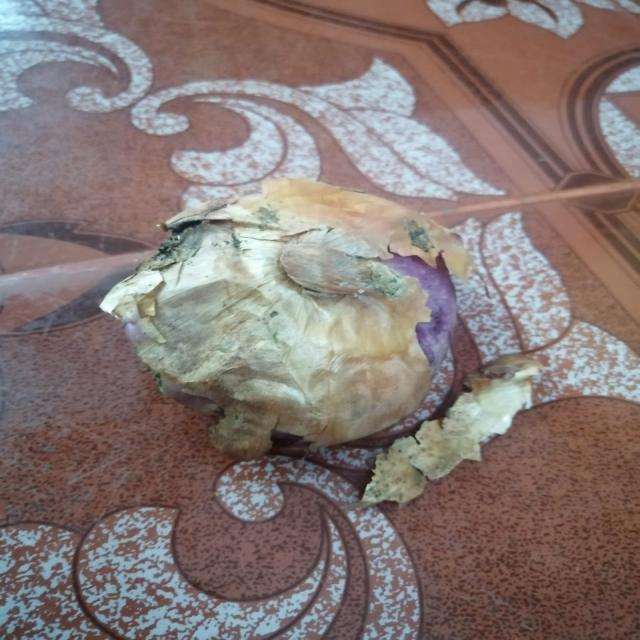rotten: (160, 217, 233, 290)
